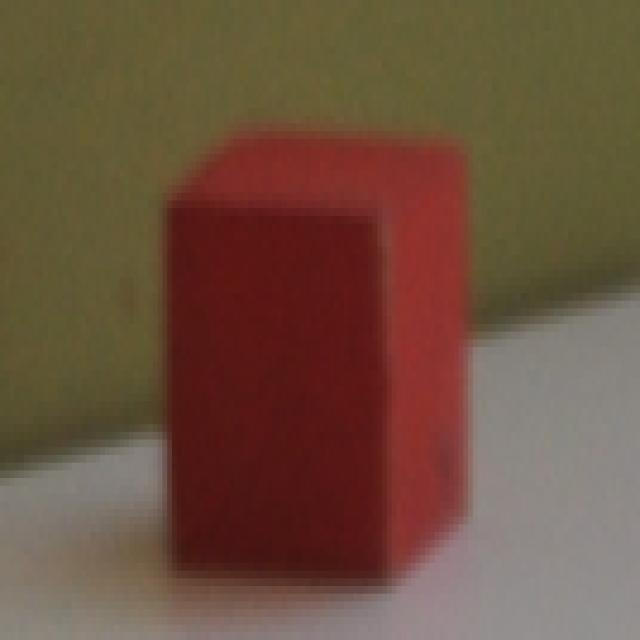red cube: (165, 128, 482, 591)
